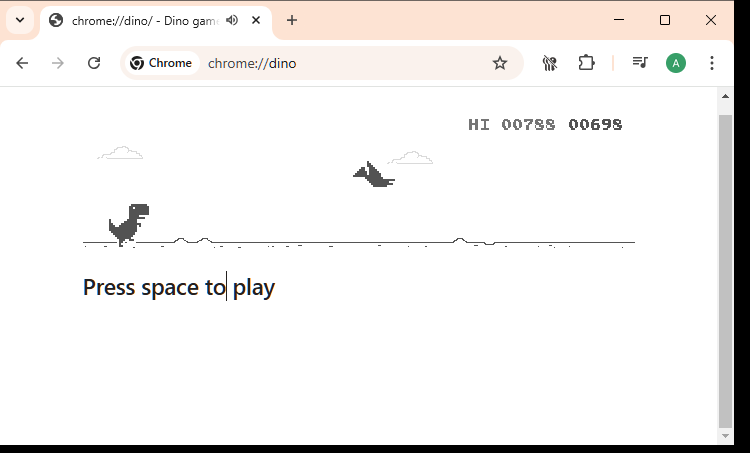bird: (352, 160, 396, 188)
dino: (108, 203, 150, 248)
